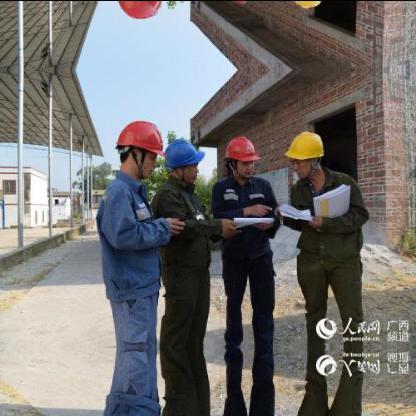Helmet: (110, 116, 166, 180), (280, 126, 327, 176), (160, 134, 202, 180), (221, 131, 258, 179), (110, 0, 167, 21), (280, 0, 329, 11)
